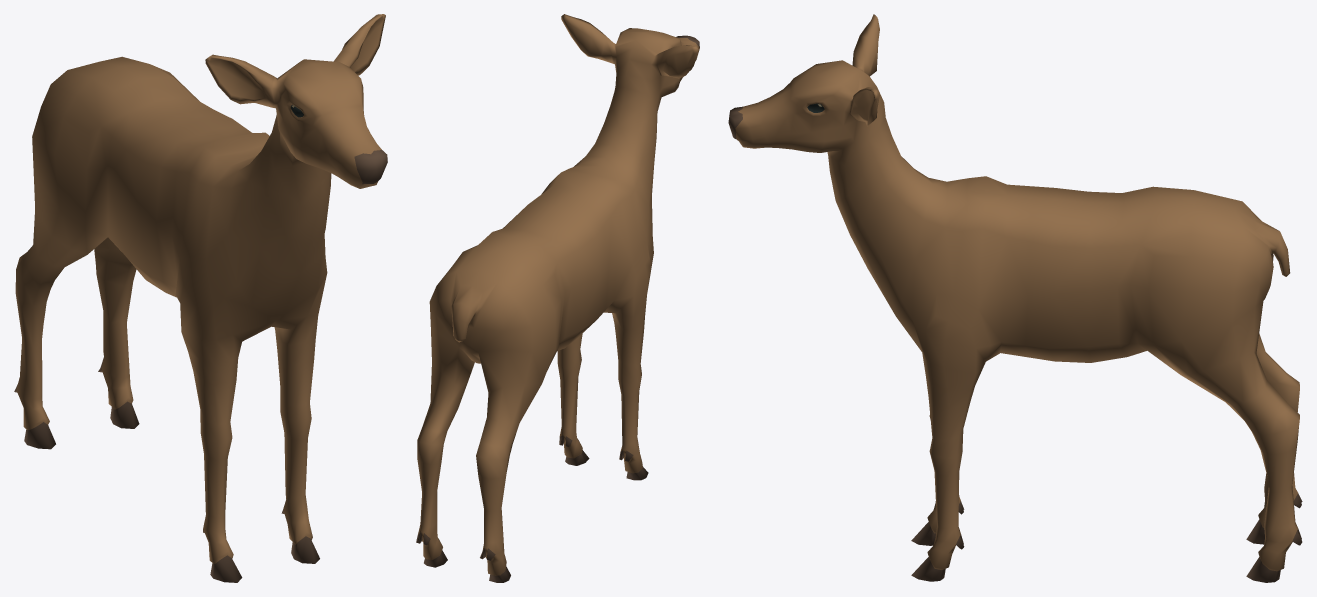
The model's file is deer-woodland-doe.glb.
3 renders of one model, left to right at view 1: azimuth 30°, elevation 25°; view 2: azimuth 150°, elevation 25°; view 3: azimuth 270°, elevation 25°, orthographic. The views are drawn at different scales.
Visible parts, largest first — view 1: deer-woodland-doe runtime mesh; view 2: deer-woodland-doe runtime mesh; view 3: deer-woodland-doe runtime mesh.
Boxes of the visible parts, box(x1,y1,x2,y2) form: deer-woodland-doe runtime mesh: box(14, 14, 387, 582); deer-woodland-doe runtime mesh: box(416, 14, 699, 582); deer-woodland-doe runtime mesh: box(728, 14, 1302, 582).
Size of the model in its own units: 0.495 by 1.45 by 1.49.
